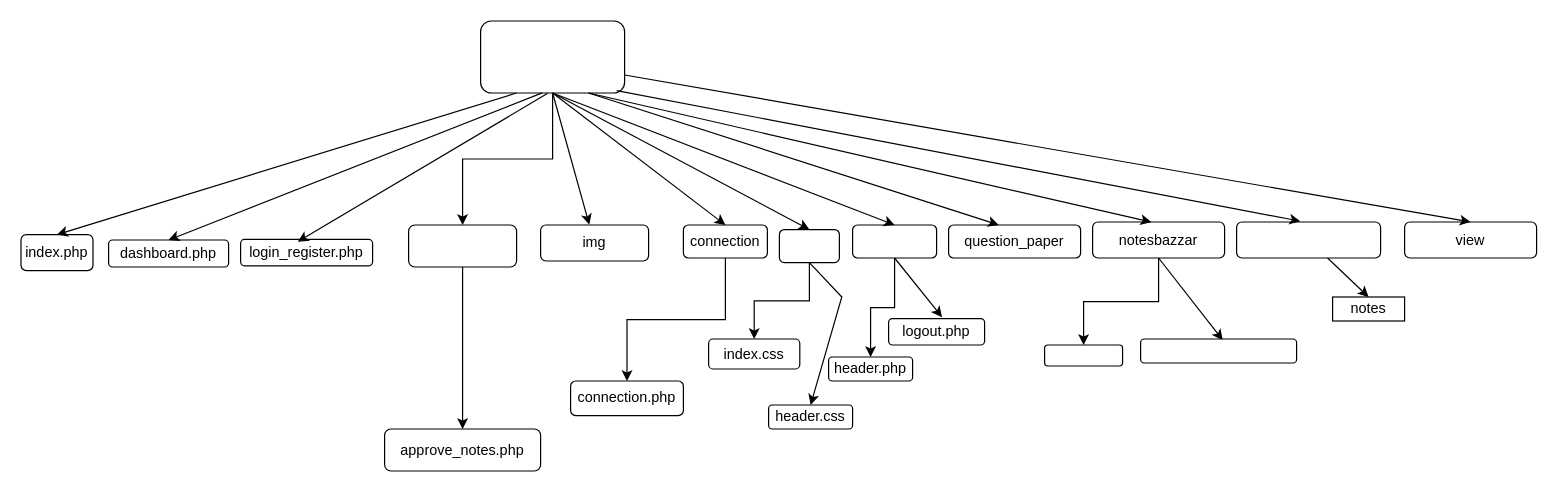
The diagram is 1558 pixels wide and 492 high, and some of its shapes have lost their labels. Each missing label, with the box of its shape:
admin: (407, 224, 517, 267)
css: (778, 228, 839, 263)
includes: (851, 224, 937, 258)
notes.php: (1043, 344, 1123, 366)
studymart: (479, 20, 625, 93)
uploades_notes.php: (1139, 338, 1297, 363)
uploads: (1235, 221, 1381, 258)
